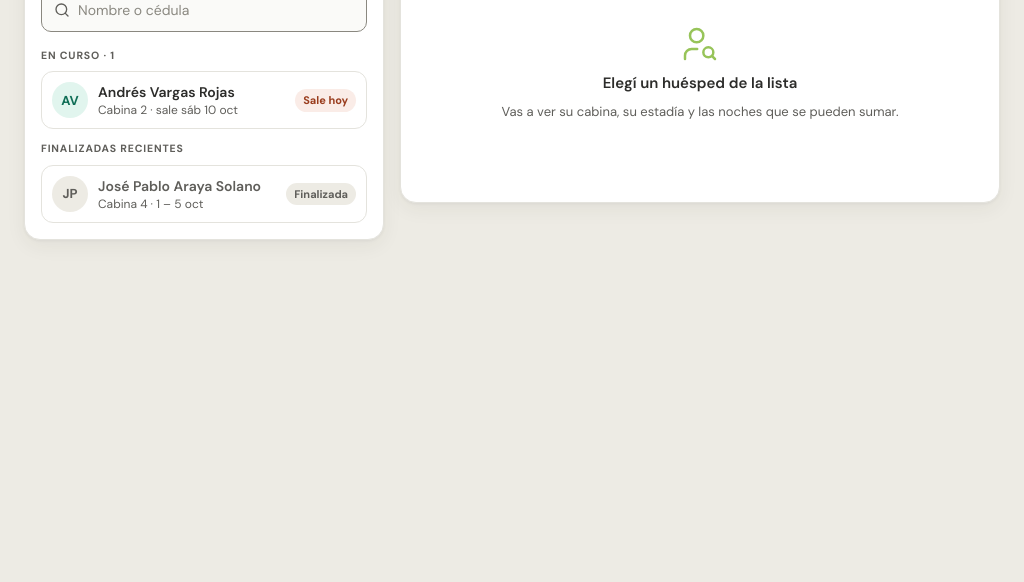
Test: HU-127 pantalla Extender hospedaje › CA-2 de carrera: si al confirmar ya no hay cupo, muestra el aviso y no registra nada
The image size is (1024, 582).
Step 1. Click the text "Andrés Vargas Rojas" → (166, 92), box [98,83,235,101]
(page scrolled)
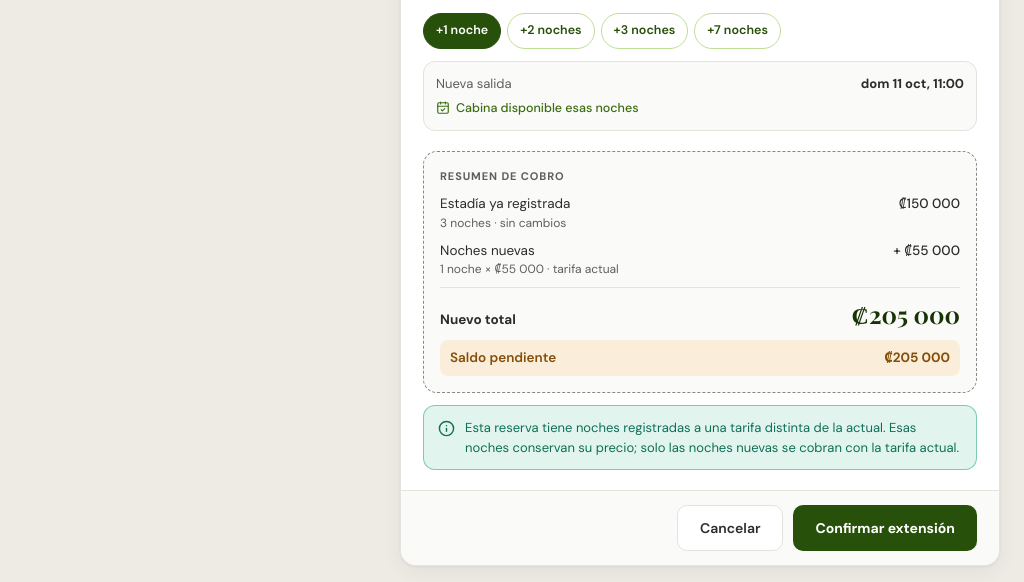
Expected: the button "Confirmar extensión" is enabled
Step 2. Click the button "Confirmar extensión" → (885, 528), box [794,505,977,551]
(page scrolled)
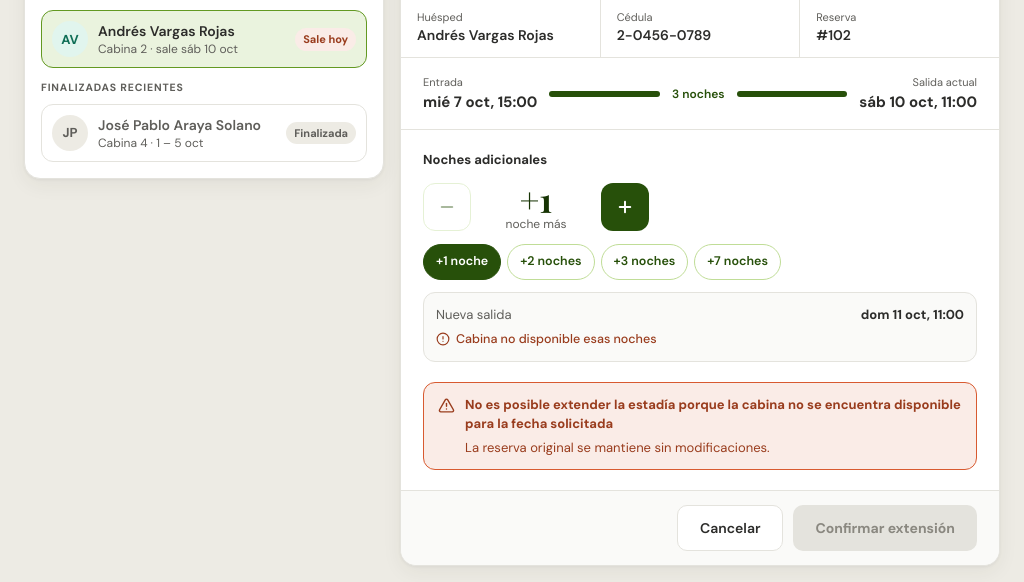
Expected: the text "No es posible extender la estadía porque la cabina no se encuentra disponible para la fecha solicitada" is shown, [465,396,961,432]
Expected: the button "Confirmar extensión" is disabled, [794,505,977,551]
